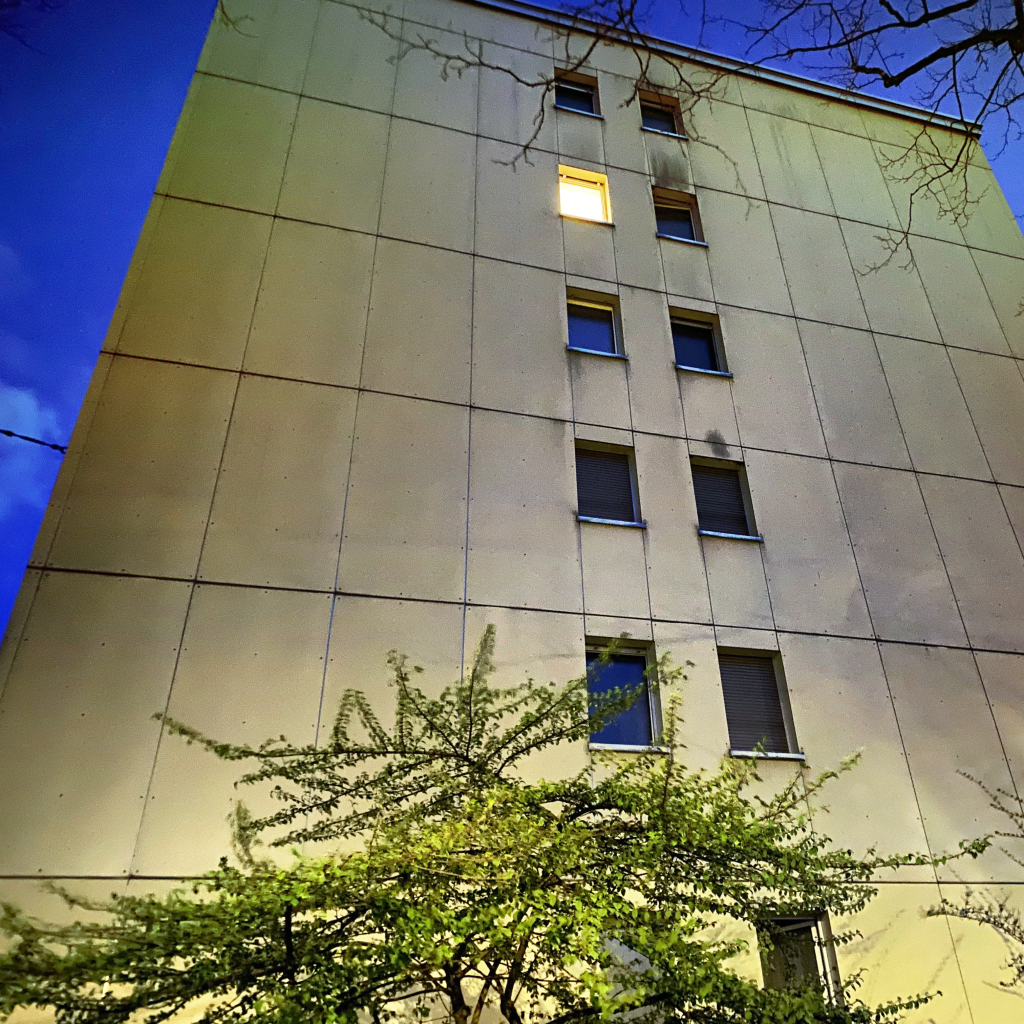glass_panel: (719, 654, 789, 751), (587, 653, 651, 745), (576, 448, 636, 522), (761, 919, 821, 989), (692, 465, 749, 535), (567, 302, 614, 352), (672, 322, 717, 369), (560, 178, 606, 220), (555, 81, 595, 114), (655, 206, 695, 239), (641, 103, 677, 133)
